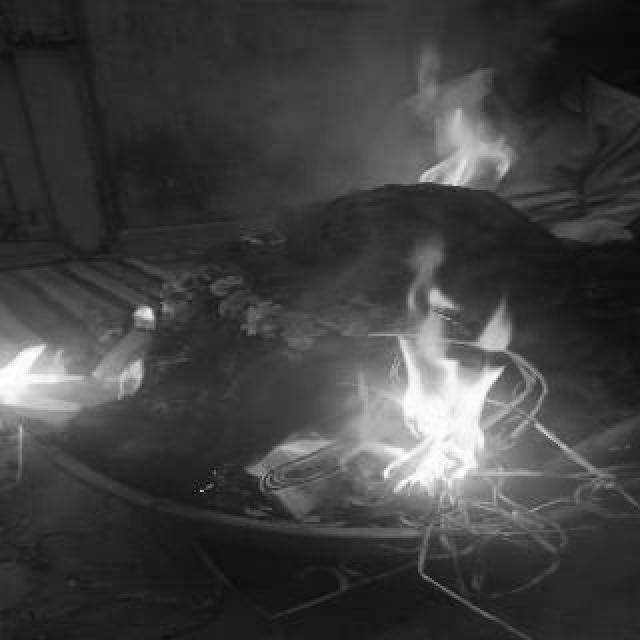Fire: (378, 238, 532, 494), (406, 52, 524, 188), (2, 338, 90, 422)
Smoke: (202, 26, 416, 310)
